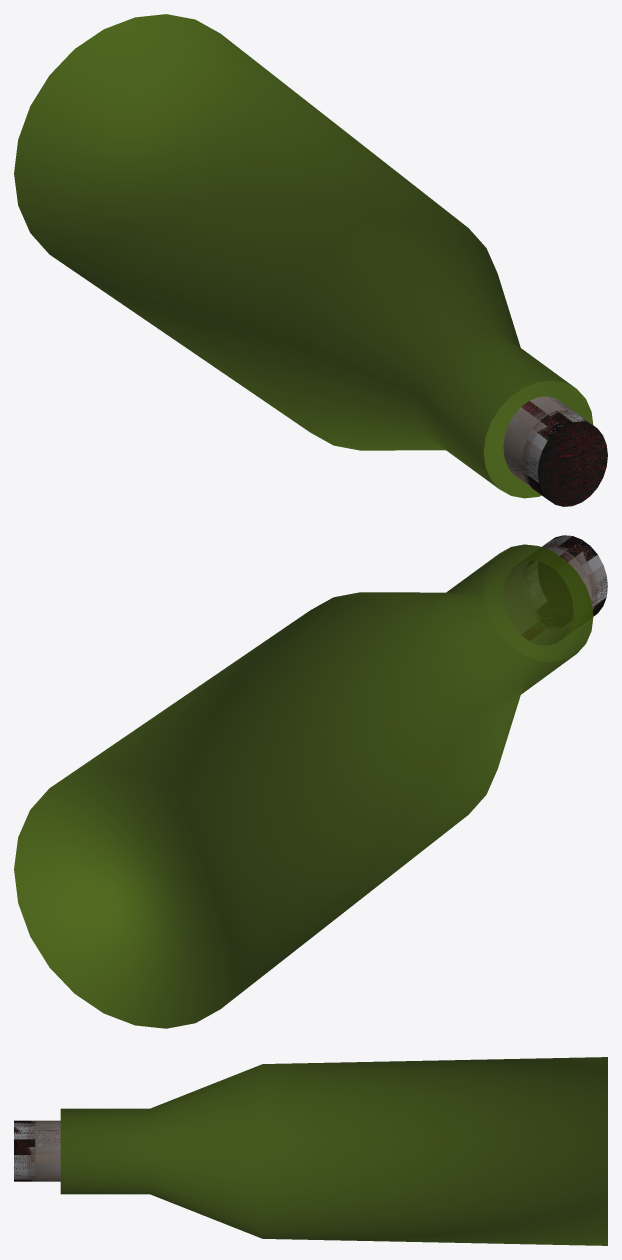
Rendered from model_scale.obj.
The picture shows the model from 3 angles, top to bottom: view 1: azimuth 30°, elevation 25°; view 2: azimuth 150°, elevation 25°; view 3: azimuth 270°, elevation 25°; orthographic projection. The views are drawn at different scales.
Parts seen in each view (by area): view 1: mesh1_mesh1-geometry; view 2: mesh1_mesh1-geometry; view 3: mesh1_mesh1-geometry.
Part boxes in pixels (x1=…): mesh1_mesh1-geometry: x1=14, y1=14, x2=607, y2=506; mesh1_mesh1-geometry: x1=14, y1=535, x2=607, y2=1028; mesh1_mesh1-geometry: x1=14, y1=1057, x2=607, y2=1245.
Size of the model in its own units: 0.0774 by 0.0774 by 0.2423.
